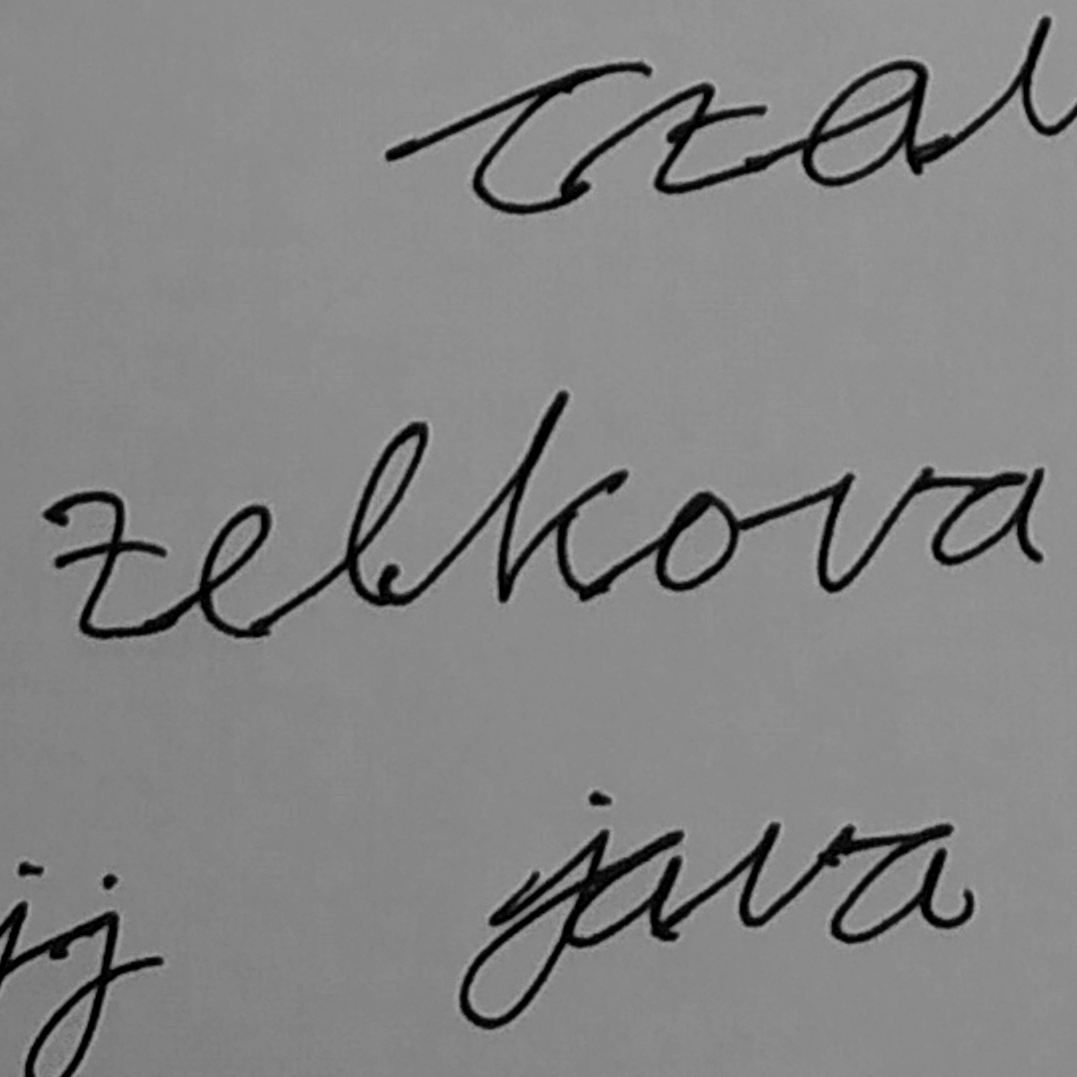a: (928, 463, 1050, 573)
e: (194, 500, 286, 648)
k: (489, 386, 631, 610)
l: (340, 415, 437, 610)
o: (650, 488, 743, 597)
v: (805, 461, 923, 594)
z: (38, 486, 173, 644)
